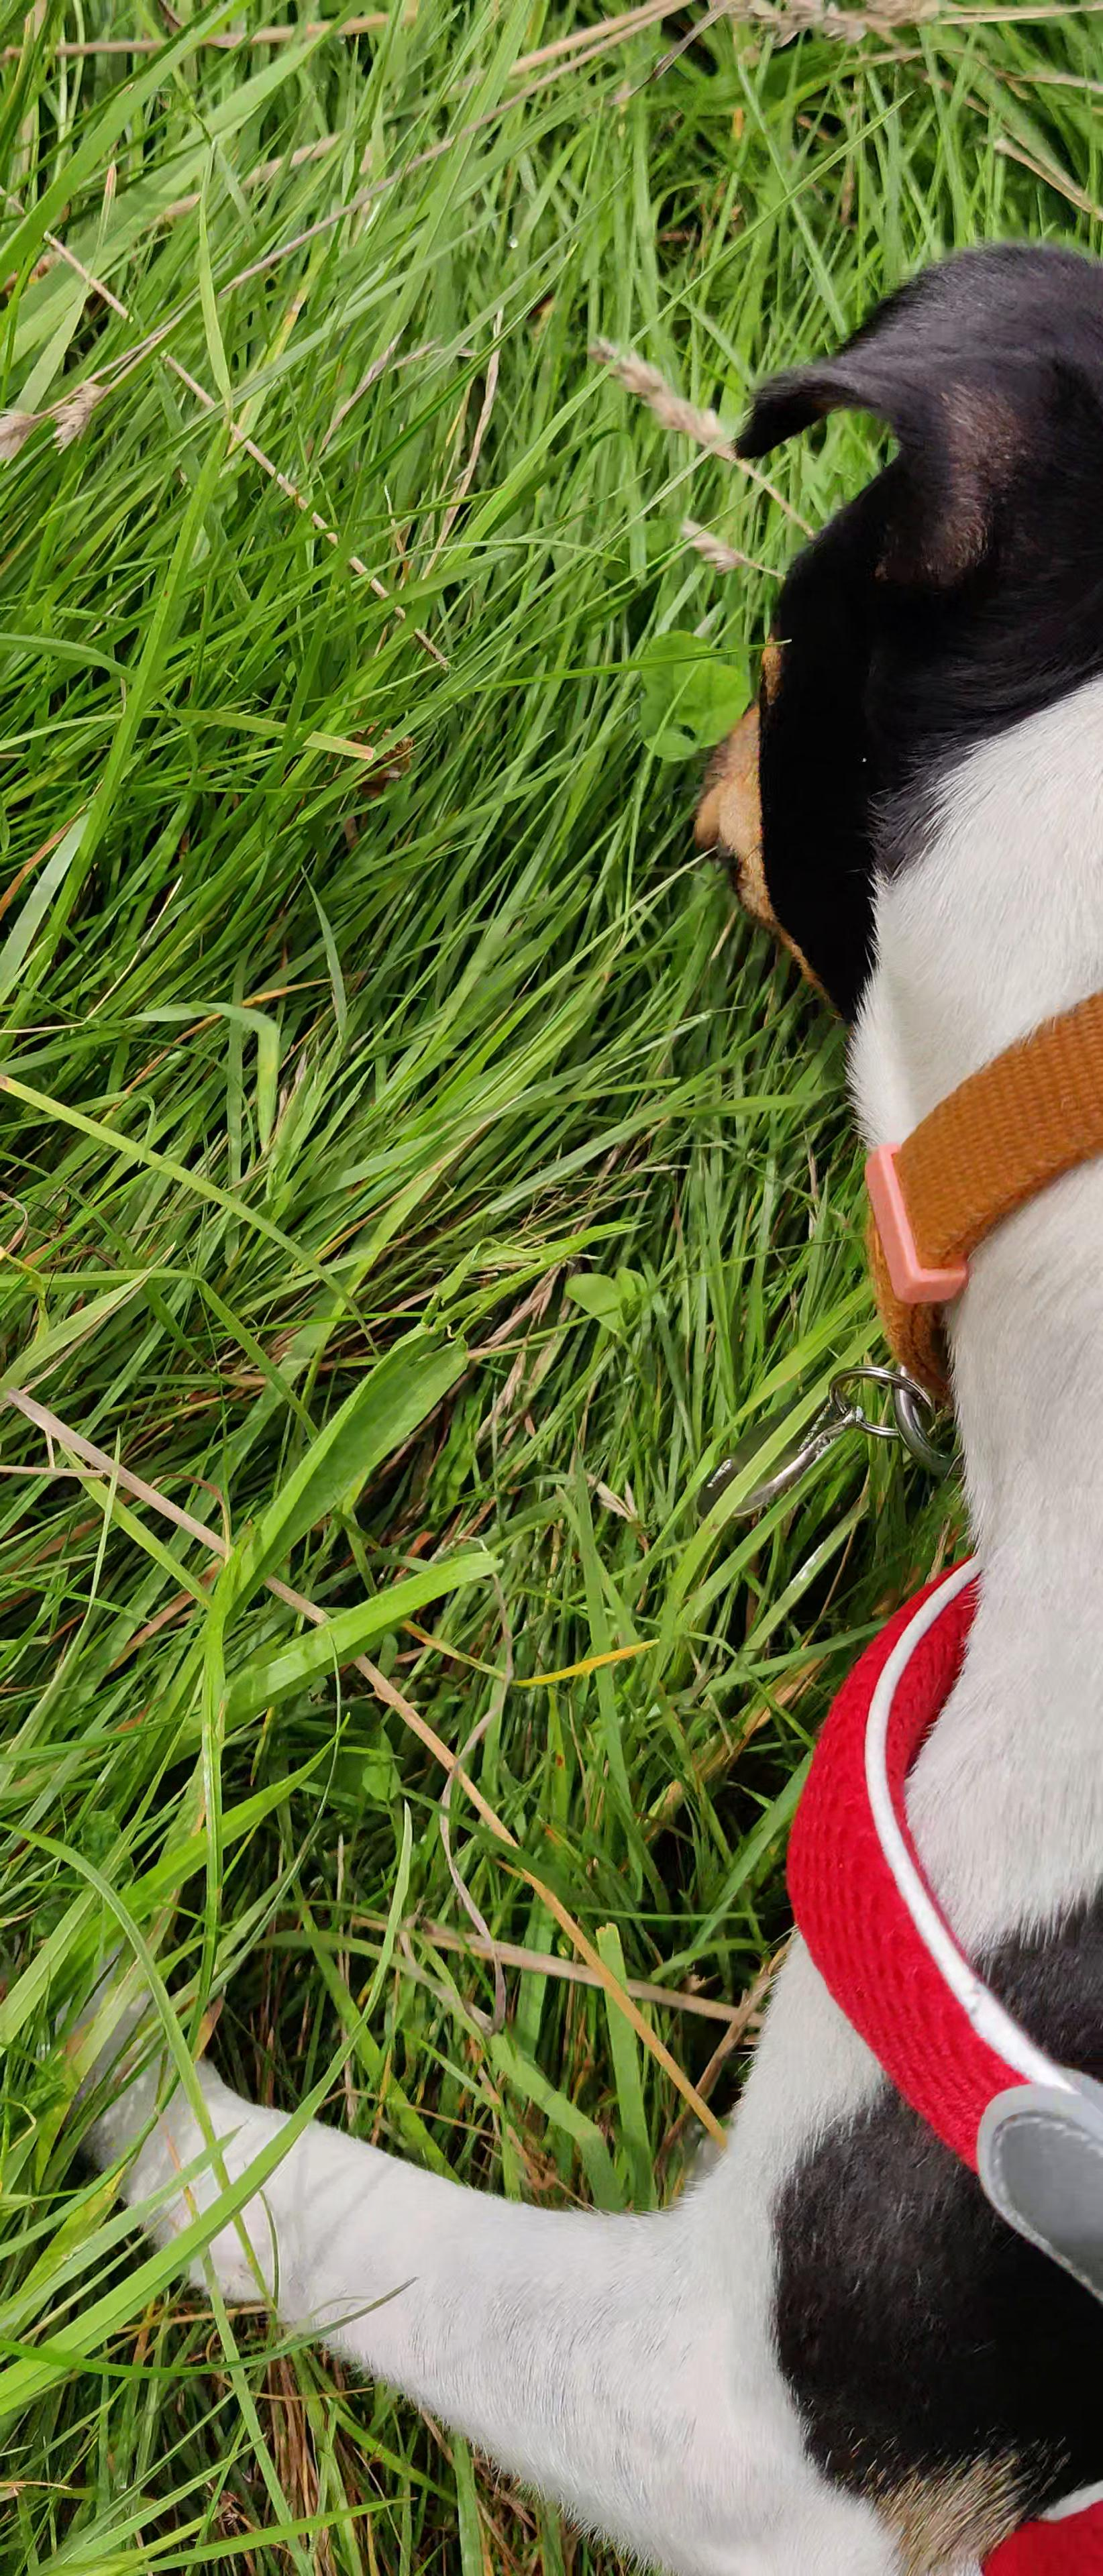Dog: (44, 235, 1103, 2576)
